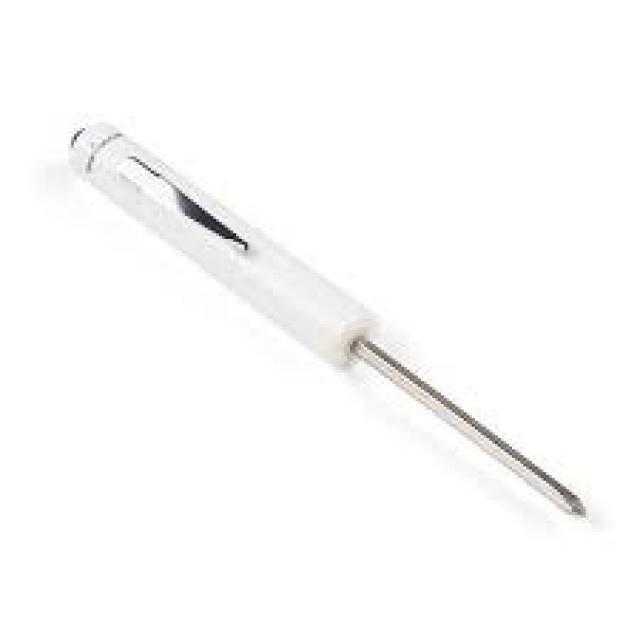screwdriver: (54, 113, 604, 554)
